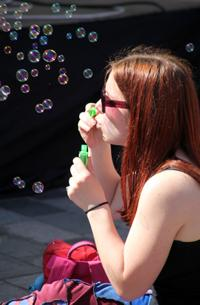person: (65, 49, 199, 302)
